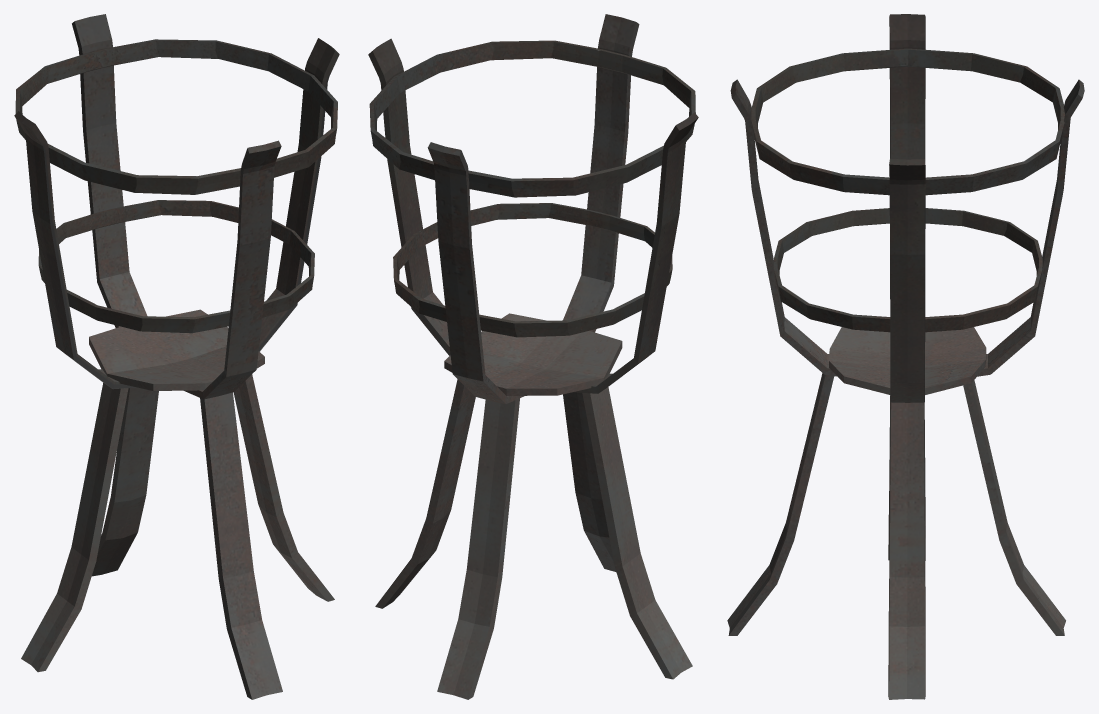
The model's file is SoporteAntorcha1.fbx.
3 renders of one model, left to right at view 1: azimuth 30°, elevation 25°; view 2: azimuth 150°, elevation 25°; view 3: azimuth 270°, elevation 25°, orthographic. The views are drawn at different scales.
Parts seen in each view (by area): view 1: Cube.008; view 2: Cube.008; view 3: Cube.008.
Part boxes in pixels (x1=…): Cube.008: x1=14, y1=14, x2=339, y2=699; Cube.008: x1=368, y1=14, x2=698, y2=699; Cube.008: x1=727, y1=14, x2=1084, y2=699.
Bounding box in the file's own units: 124 × 210 × 125.
